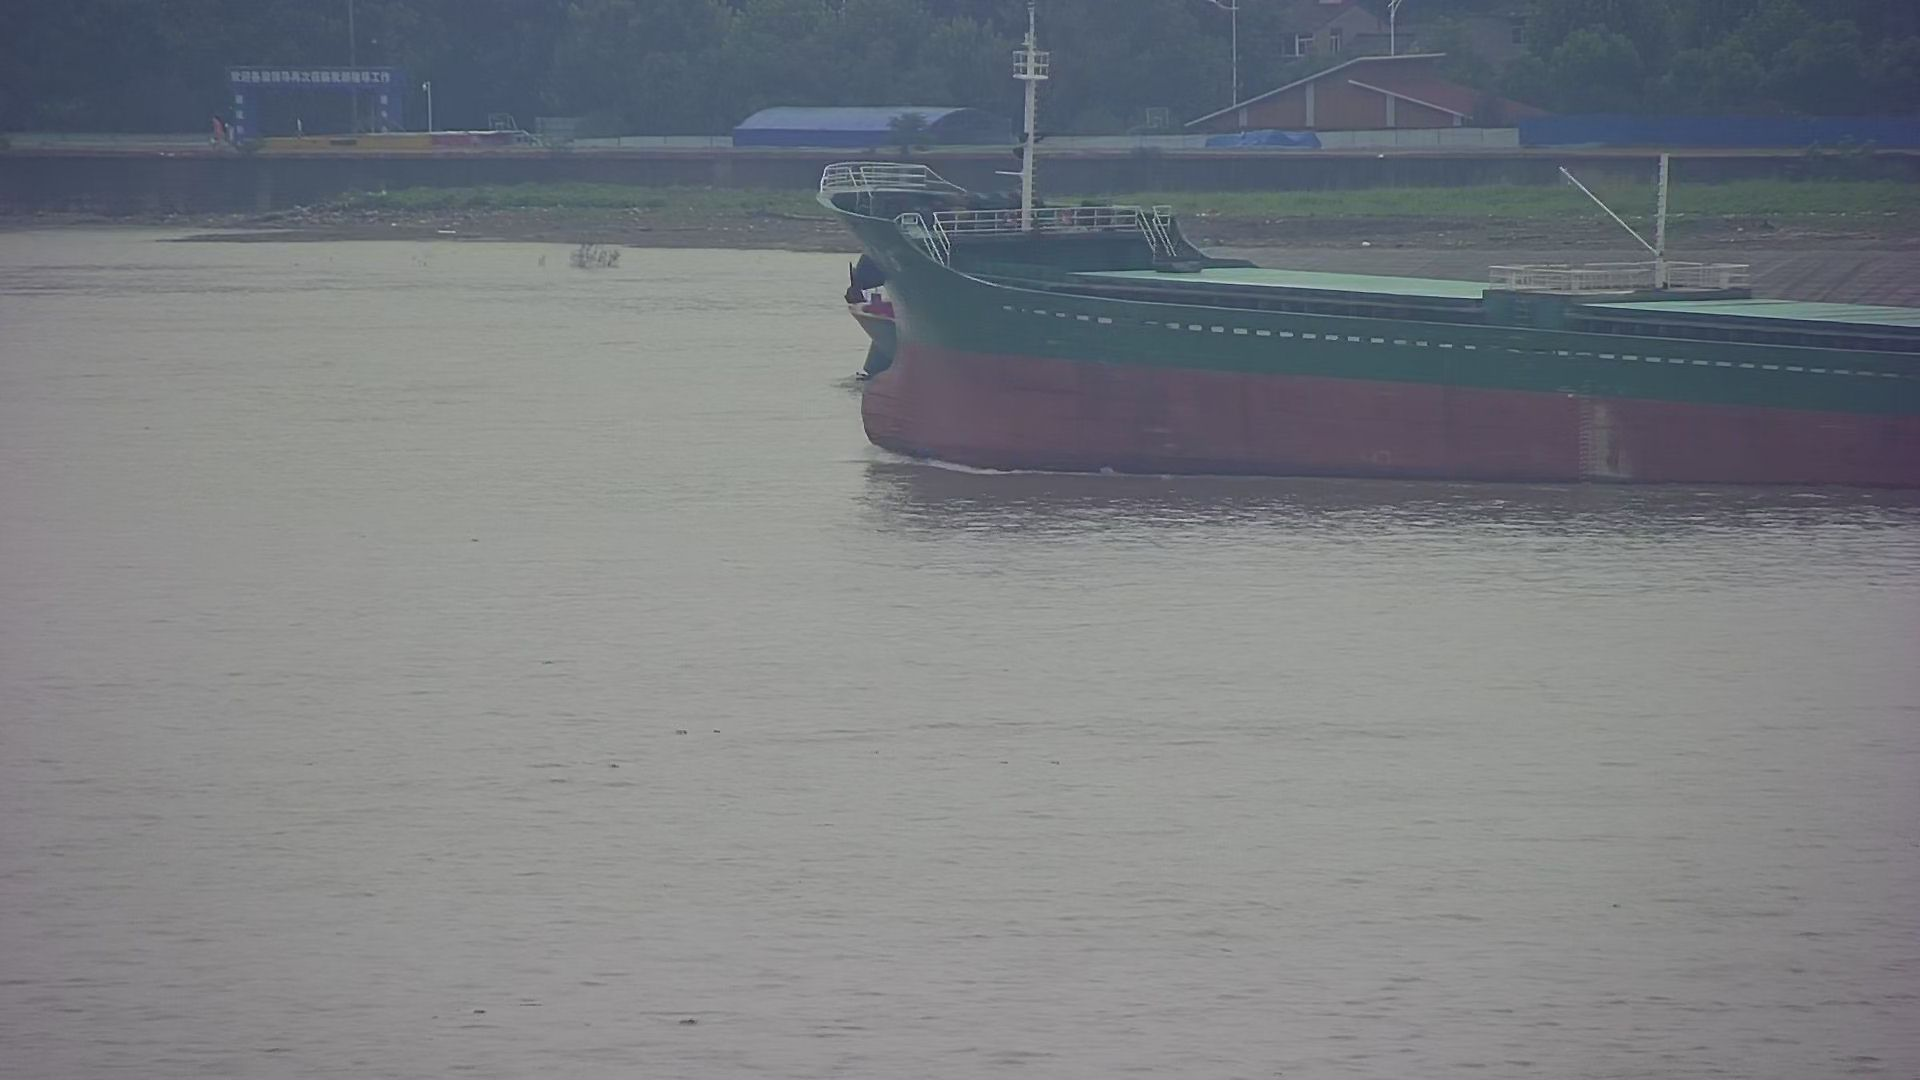grass: (562, 244, 621, 272)
ship: (810, 150, 1920, 481)
